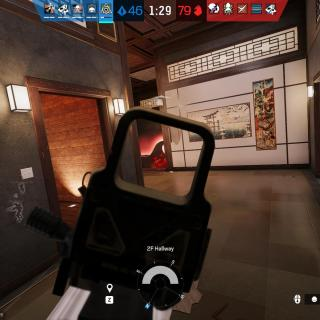Friend_label: (10, 173, 34, 184), (8, 193, 23, 203)
